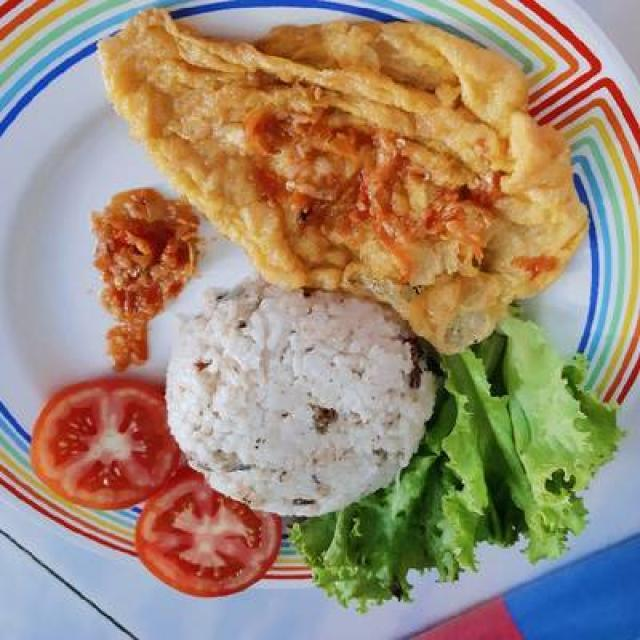nasi_putih: (163, 279, 424, 521)
telur_ayam_dadar: (112, 16, 579, 313)
